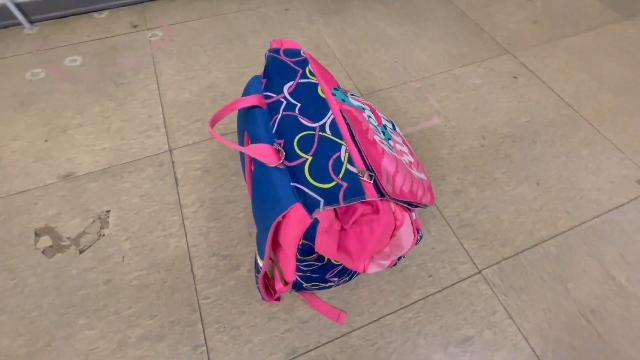Backpack: (200, 32, 442, 330)
